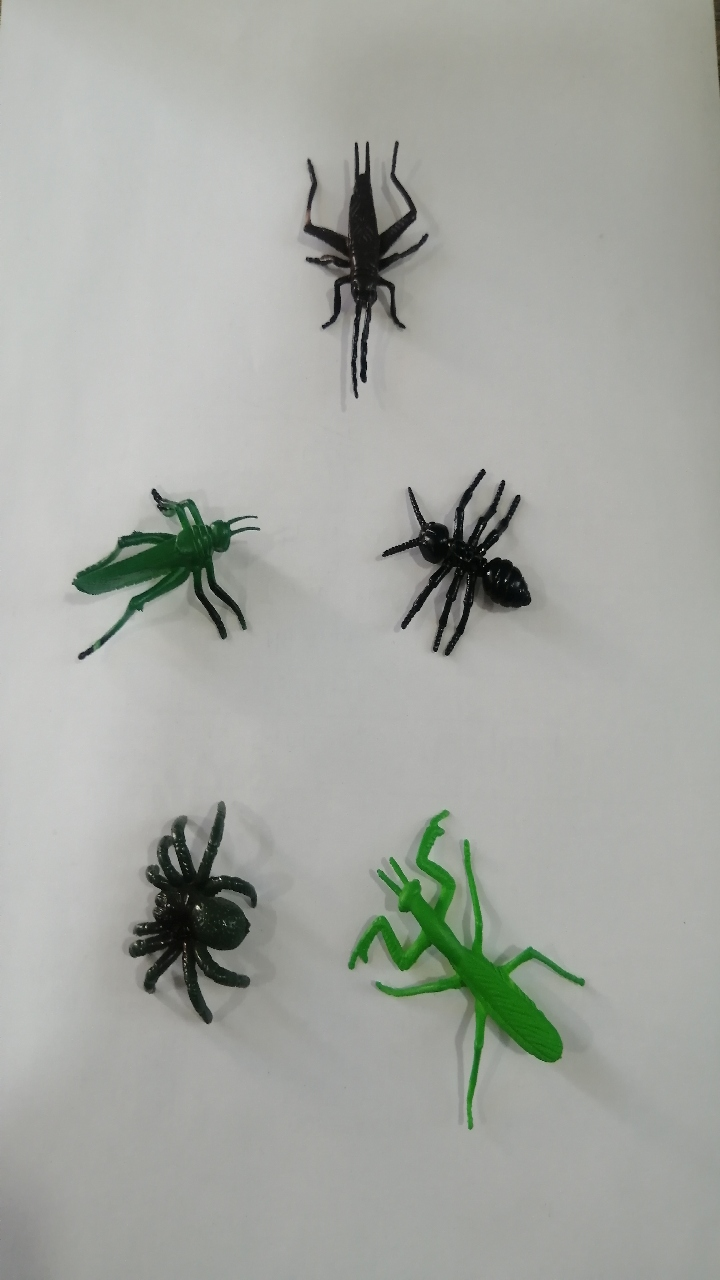intruso: (320, 765, 614, 1134), (74, 754, 291, 1082), (255, 97, 468, 426), (40, 459, 294, 689), (375, 460, 572, 680)
